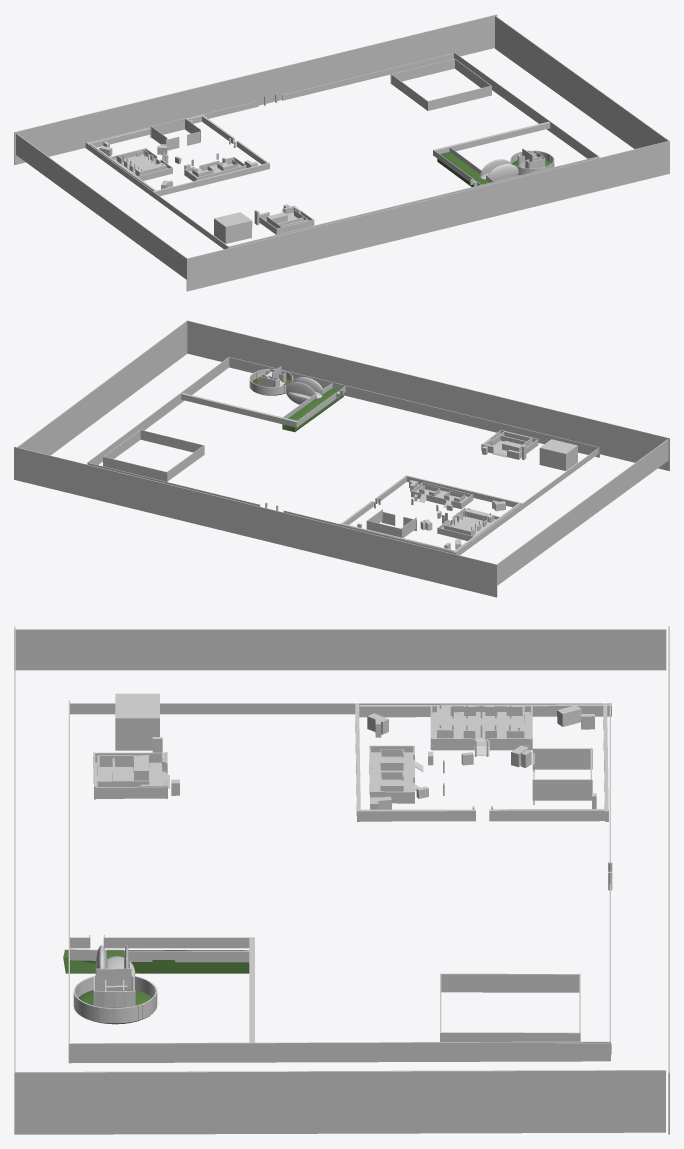
The model's file is plazaPrincipal_colisiones_editable.glb.
3 renders of one model, top to bottom at view 1: azimuth 30°, elevation 25°; view 2: azimuth 150°, elevation 25°; view 3: azimuth 270°, elevation 25°, orthographic. The views are drawn at different scales.
Parts seen in each view (by area): view 1: caja_colision_i.108, caja_colision_i.105, caja_colision_i.107, caja_colision_i.104, caja_colision_i.004, caja_colision_i.003, caja_colision_i.087, caja_colision_i.001, caja_colision_i.005, caja_colision_i.008, caja_colision_i.011, caja_colision_i.236 (+4 smaller); view 2: caja_colision_i.105, caja_colision_i.108, caja_colision_i.107, caja_colision_i.104, caja_colision_i.005, caja_colision_i.004, caja_colision_i.087, caja_colision_i.001, caja_colision_i.008, caja_colision_i.235, colision_suelo.011, caja_colision_i.236 (+3 smaller); view 3: caja_colision_i.107, caja_colision_i.104, caja_colision_i.004, caja_colision_i.001, caja_colision_i.237, caja_colision_i.087, colision_suelo.011, caja_colision_i.014, caja_colision_i.032, caja_colision_i.018, caja_colision_i.017, caja_colision_i.007 (+10 smaller).
Part boxes in pixels (bbox=[...]): caja_colision_i.108: bbox=[186, 141, 669, 291]; caja_colision_i.105: bbox=[14, 14, 497, 164]; caja_colision_i.107: bbox=[495, 16, 668, 148]; caja_colision_i.104: bbox=[16, 133, 188, 280]; caja_colision_i.004: bbox=[453, 52, 598, 158]; caja_colision_i.003: bbox=[282, 53, 453, 100]; caja_colision_i.087: bbox=[214, 212, 252, 243]; caja_colision_i.001: bbox=[86, 143, 229, 249]; caja_colision_i.005: bbox=[228, 156, 599, 248]; caja_colision_i.008: bbox=[433, 121, 550, 156]; caja_colision_i.011: bbox=[153, 162, 269, 196]; caja_colision_i.236: bbox=[427, 85, 491, 110]; caja_colision_i.105: bbox=[14, 447, 497, 597]; caja_colision_i.108: bbox=[187, 320, 669, 470]; caja_colision_i.107: bbox=[17, 321, 187, 455]; caja_colision_i.104: bbox=[497, 439, 668, 585]; caja_colision_i.005: bbox=[229, 357, 599, 457]; caja_colision_i.004: bbox=[87, 357, 229, 464]; caja_colision_i.087: bbox=[539, 439, 577, 470]; caja_colision_i.001: bbox=[455, 448, 598, 555]; caja_colision_i.008: bbox=[181, 393, 298, 427]; caja_colision_i.235: bbox=[103, 456, 167, 481]; colision_suelo.011: bbox=[282, 388, 343, 432]; caja_colision_i.236: bbox=[140, 430, 204, 454]; caja_colision_i.107: bbox=[15, 1070, 665, 1134]; caja_colision_i.104: bbox=[14, 629, 666, 670]; caja_colision_i.004: bbox=[68, 1041, 610, 1063]; caja_colision_i.001: bbox=[70, 703, 611, 714]; caja_colision_i.237: bbox=[440, 973, 580, 992]; caja_colision_i.087: bbox=[115, 693, 159, 750]; colision_suelo.011: bbox=[63, 950, 249, 973]; caja_colision_i.014: bbox=[357, 704, 611, 717]; caja_colision_i.032: bbox=[103, 937, 249, 948]; caja_colision_i.018: bbox=[360, 809, 475, 821]; caja_colision_i.017: bbox=[489, 809, 604, 821]; caja_colision_i.007: bbox=[124, 950, 254, 962].
Size of the model in its own units: 316 by 20.52 by 196.
